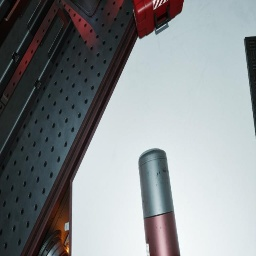FirstAidBox ,: (132, 0, 184, 38)
NitrogenTank ,: (138, 149, 180, 256)
